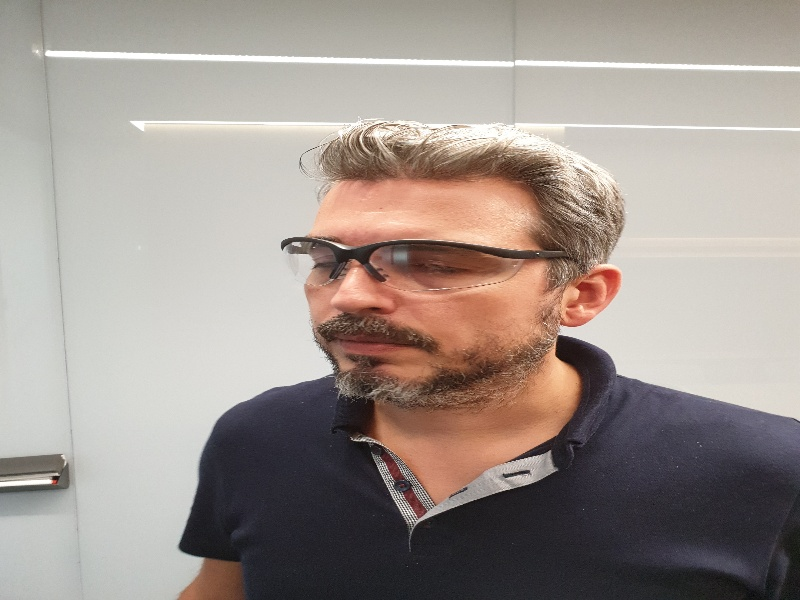Gozluk: (279, 235, 570, 301)
